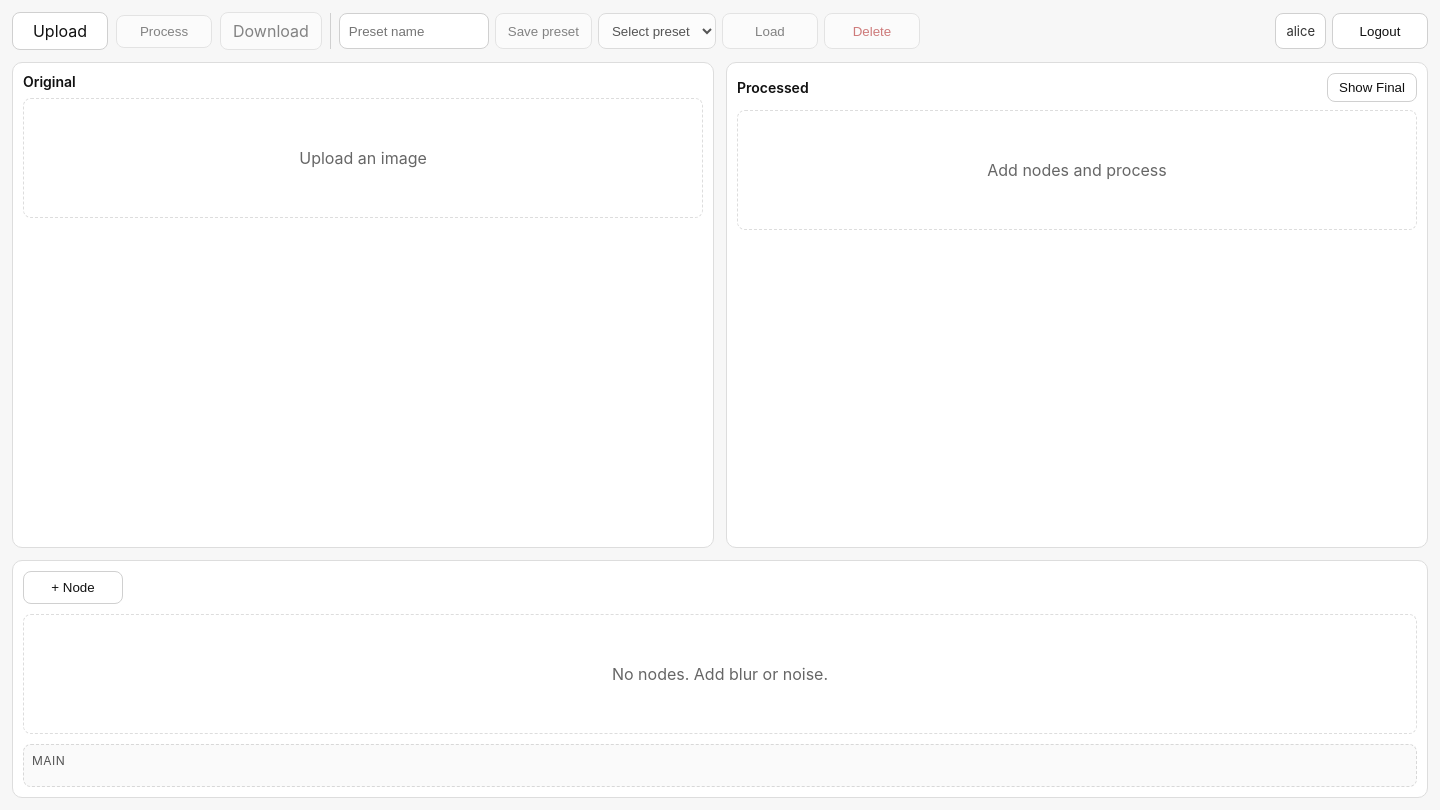
App authentication and presets › treats logout HTTP 400 as an already closed session regardless of error text
The width and height of the screenshot is (1440, 810).
Expected: the text "alice" is shown, [1275,13,1326,49]
Click the button "Logout": (1380, 31) [1332,13,1428,49]
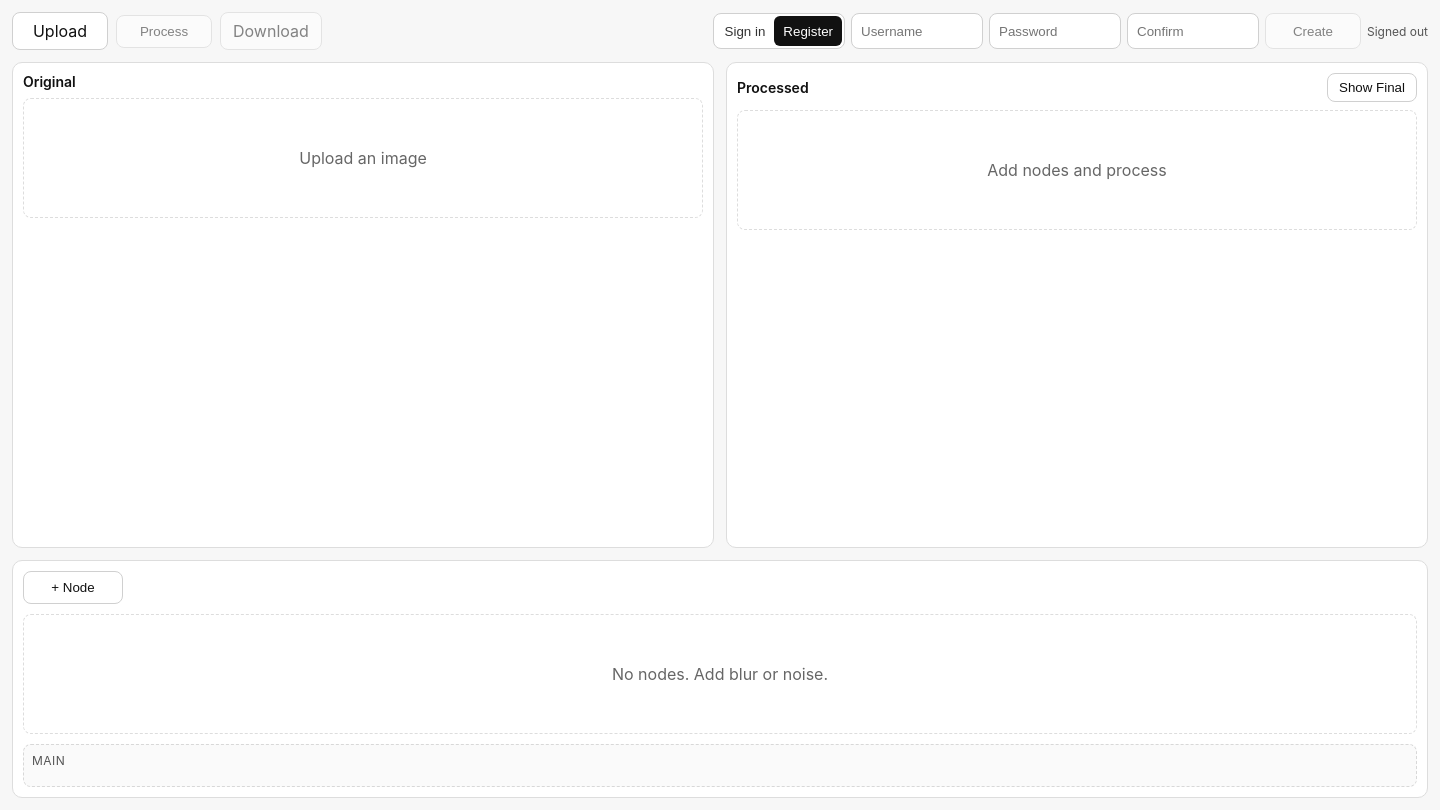
Expected: the button "Create" is shown, [1265,13,1361,49]
